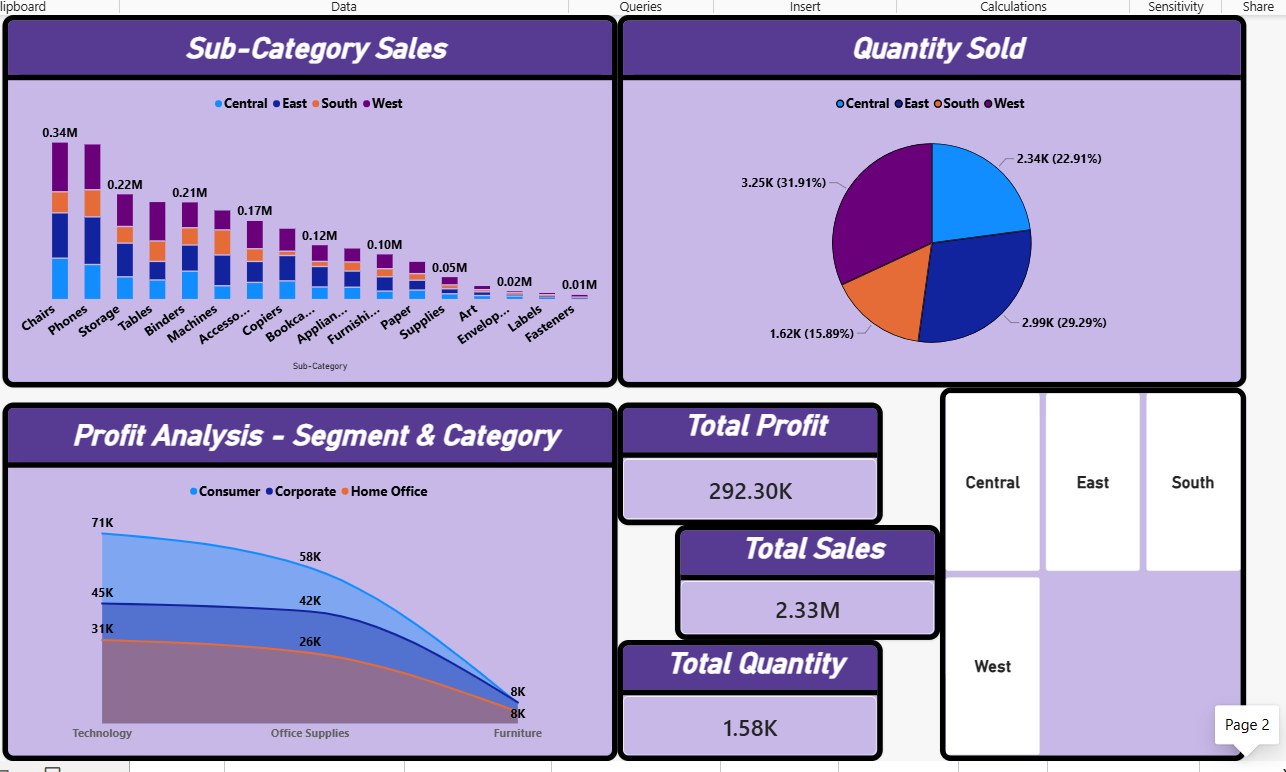

The dashboard page shown, as its layout file describes it:
{"tool":"powerbi","page":{"name":"Page 2","canvas":[1920,1080],"ordinal":8},"visuals":[{"type":"columnChart","title":"Sub-Category Sales","fields":{"Category":["Orders.Sub-Category"],"Series":["Orders.Region"],"Y":["Sum(Orders.Sales)"]},"box":[10.9,0,890.4,539.3],"z":0},{"type":"pieChart","title":"Quantity Sold","fields":{"Series":["Orders.Region"],"Y":["CountNonNull(Orders.Order ID)"]},"box":[901.2,0,910.3,539.3],"z":1000},{"type":"areaChart","title":"Profit Analysis - Segment & Category","fields":{"Category":["Orders.Category"],"Series":["Orders.Segment"],"Y":["Sum(Orders.Profit)"]},"box":[10.9,561,890.4,519.4],"z":1001},{"type":"cardVisual","title":"Total Profit","fields":{"Data":["Sum(Orders.Profit)"]},"box":[901.2,561,383.6,177.3],"z":1002},{"type":"cardVisual","title":"Total Quantity","fields":{"Data":["Sum(Orders.Discount)"]},"box":[901.2,904.8,383.6,175.5],"z":1003},{"type":"cardVisual","title":"Total Sales","fields":{"Data":["Sum(Orders.Sales)"]},"box":[984.5,738.3,383.6,166.5],"z":1004},{"type":"advancedSlicerVisual","title":"Total Profit","fields":{"Values":["Orders.Region"]},"box":[1368.1,539.3,443.4,541.1],"z":1005}]}

Visuals, with their boxes in screenshot pixels (x1, y1, x2, y2):
"Sub-Category Sales" columnChart: {"left": 7, "top": 13, "right": 617, "bottom": 383}
"Quantity Sold" pieChart: {"left": 617, "top": 13, "right": 1241, "bottom": 383}
"Profit Analysis - Segment & Category" areaChart: {"left": 7, "top": 398, "right": 617, "bottom": 753}
"Total Profit" cardVisual: {"left": 617, "top": 398, "right": 880, "bottom": 519}
"Total Quantity" cardVisual: {"left": 617, "top": 633, "right": 880, "bottom": 753}
"Total Sales" cardVisual: {"left": 674, "top": 519, "right": 937, "bottom": 633}
"Total Profit" advancedSlicerVisual: {"left": 937, "top": 383, "right": 1241, "bottom": 753}
